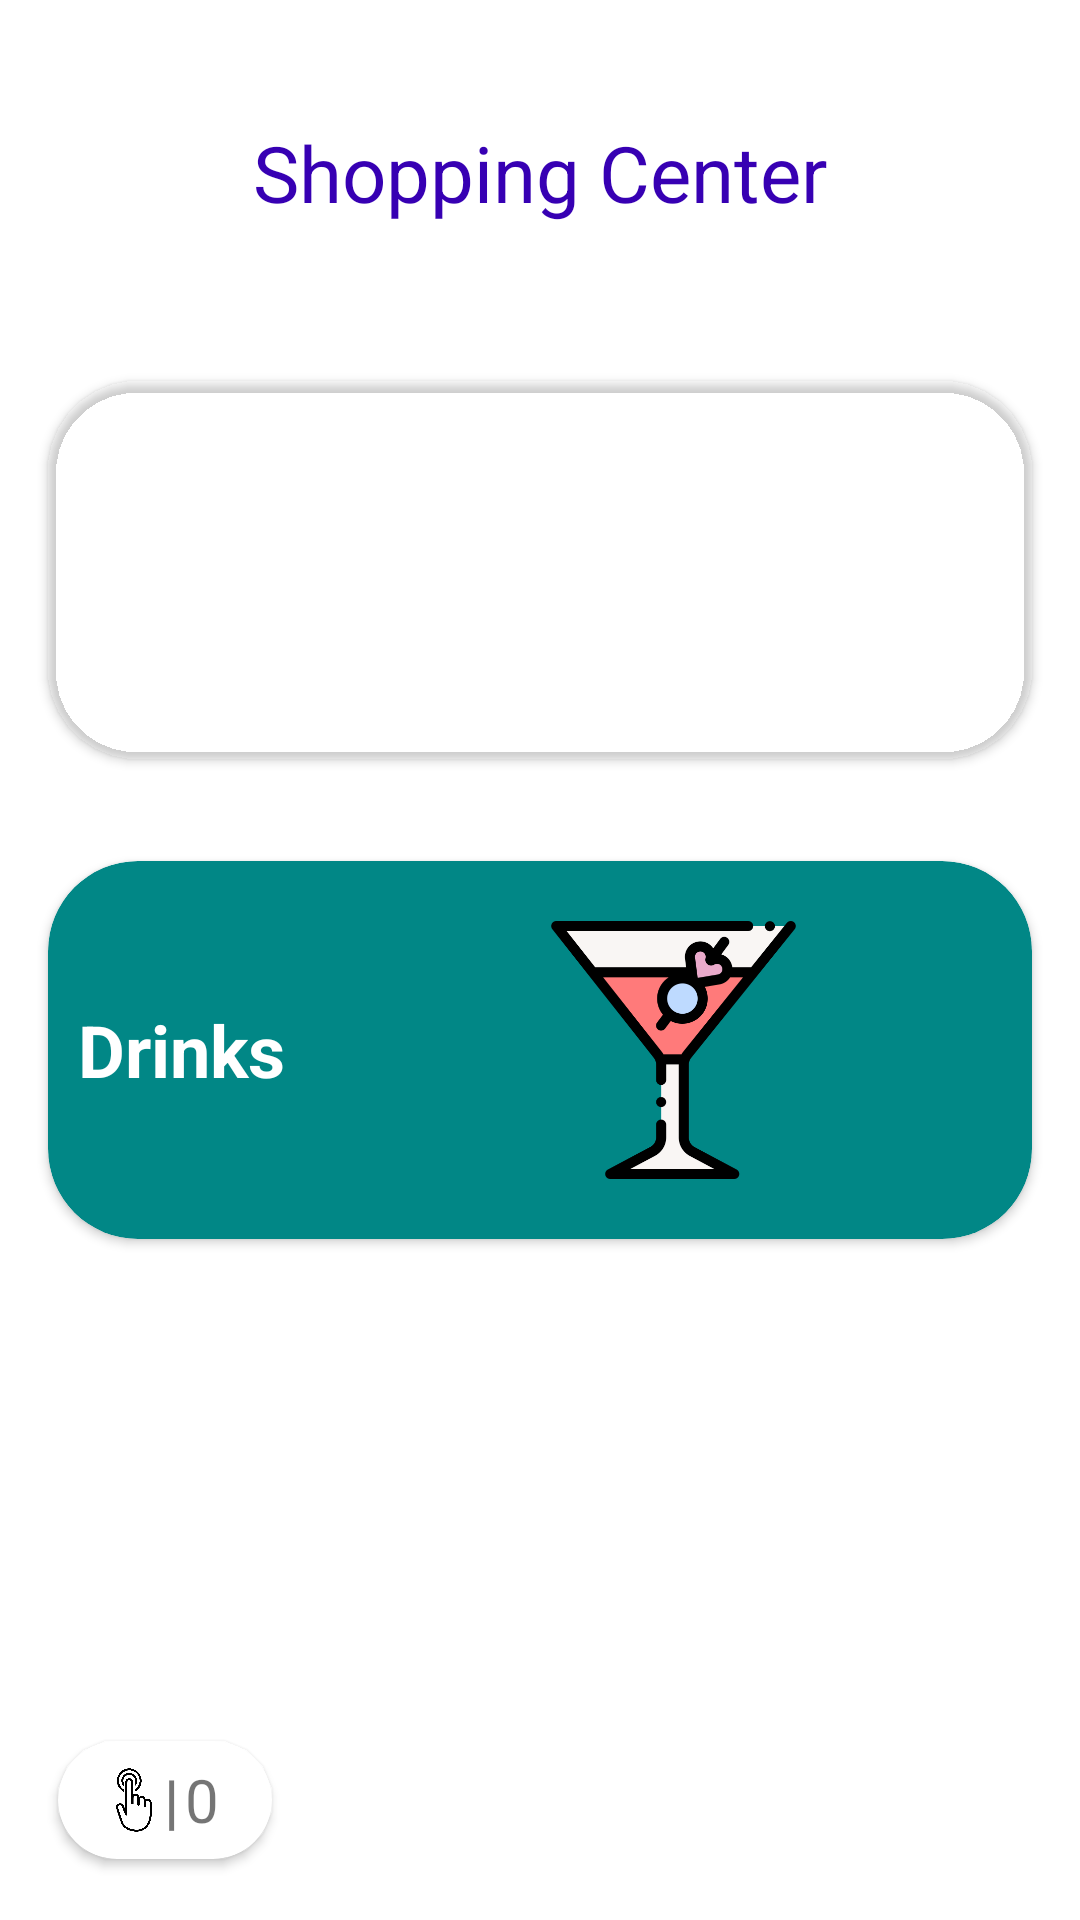

Icons on this 1080x1920 Android screen, each with its box as (x1, y1, x2, y2):
Number of Touch: (116, 1768, 152, 1832)
